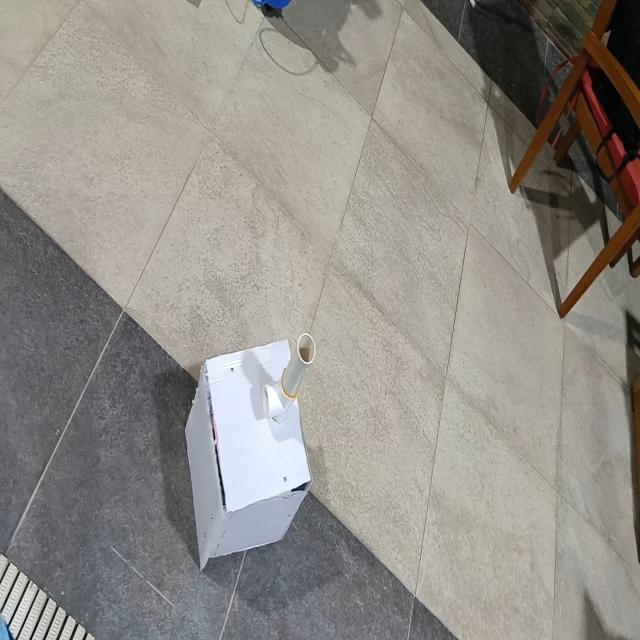Cube: (184, 337, 313, 570)
